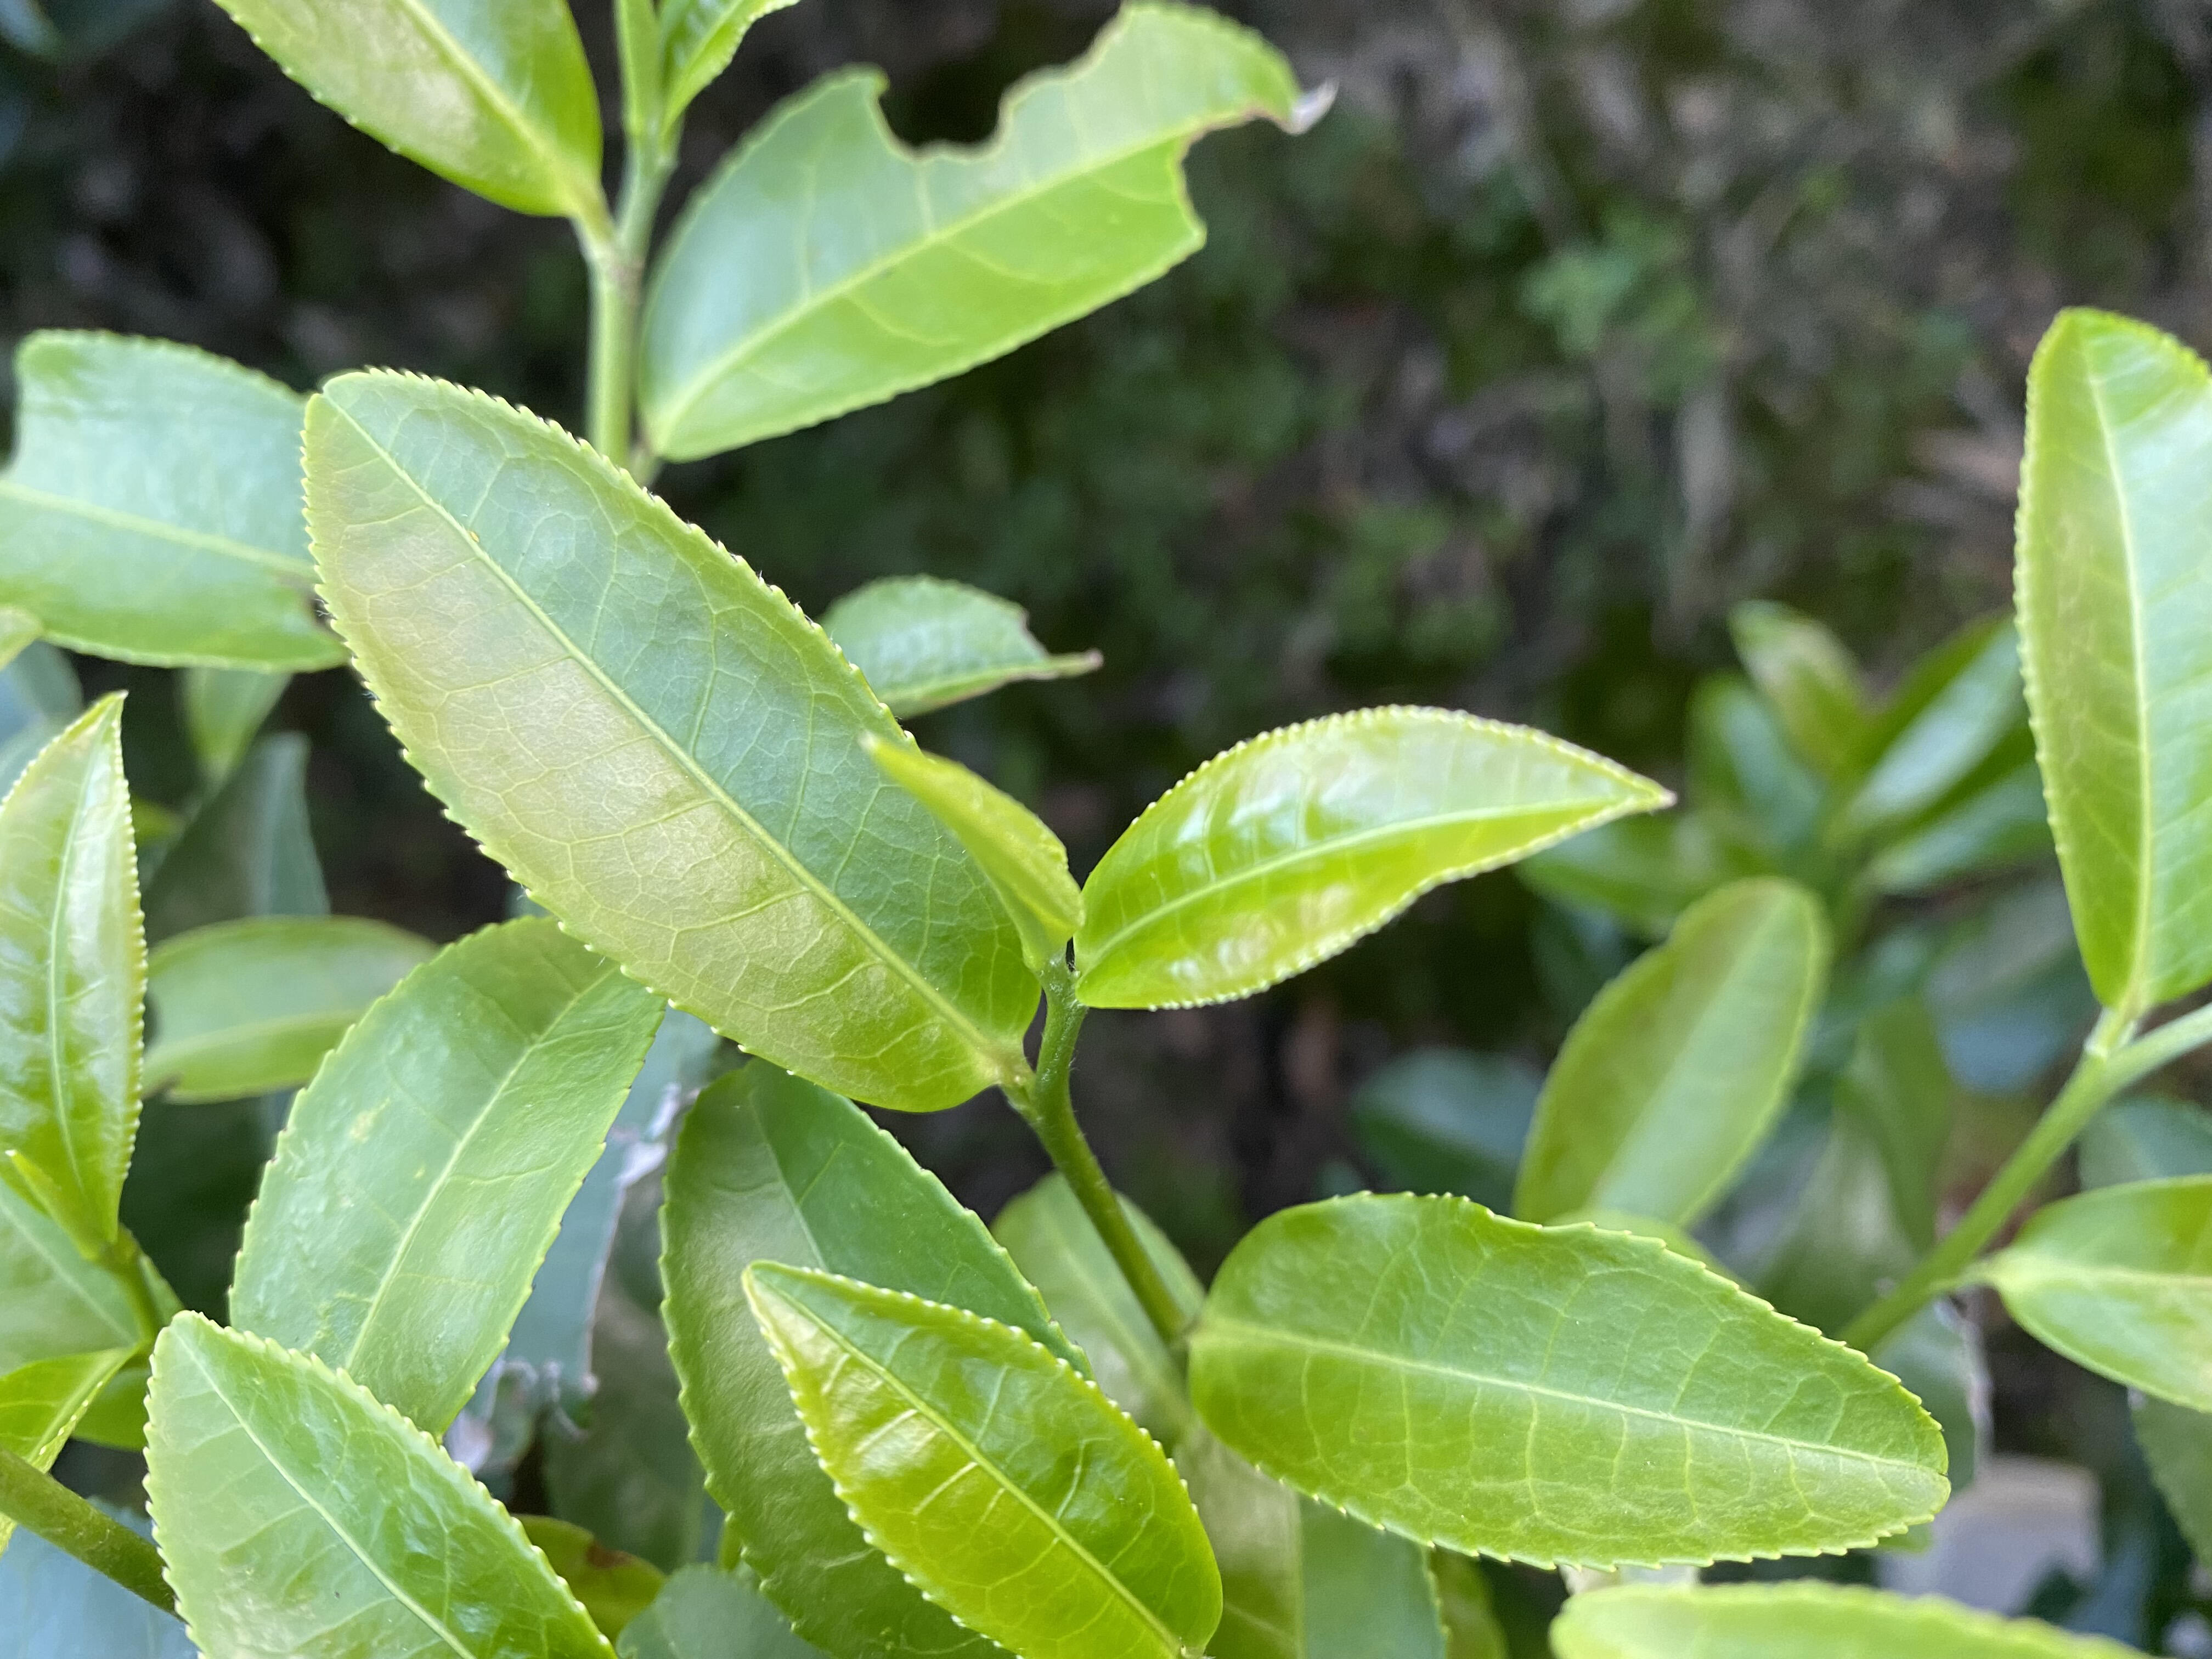chihuo_high: (634, 5, 1341, 462), (5, 326, 369, 680)
healthy: (300, 366, 1043, 1115), (1183, 1188, 1954, 1570), (219, 911, 665, 1439), (740, 1260, 1228, 1654), (1071, 701, 1676, 1012), (139, 1310, 618, 1654), (2006, 303, 2209, 1011), (3, 687, 152, 1241)
